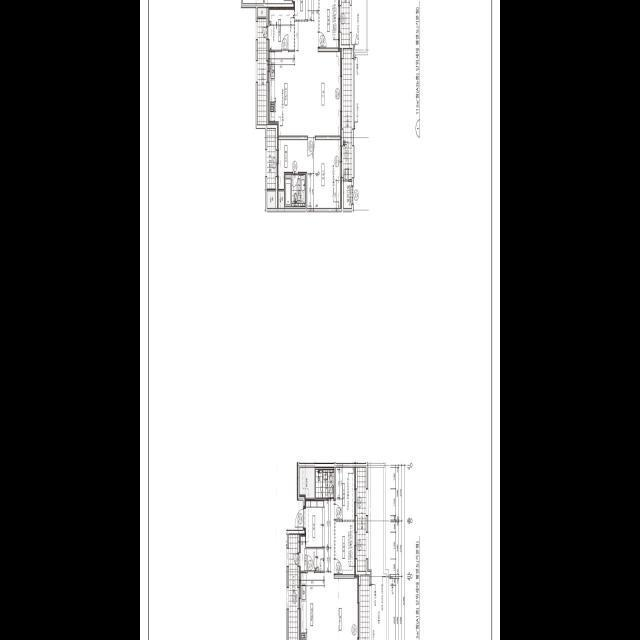background: (140, 0, 500, 640)
space_balconi: (343, 48, 352, 179), (357, 467, 366, 570), (258, 18, 266, 124), (289, 534, 297, 640), (267, 128, 276, 188), (361, 575, 369, 640), (341, 0, 350, 44)
space_bedroom: (307, 139, 342, 208), (336, 521, 356, 574), (336, 467, 356, 519), (320, 0, 340, 47)
space_dressroom: (277, 139, 307, 188)
space_front: (304, 500, 325, 546), (293, 0, 308, 19)
space_kitchen: (268, 51, 307, 135), (299, 572, 325, 640)
space_living_room: (295, 0, 342, 135), (324, 500, 359, 640)
space_multipurpose_space: (268, 6, 294, 49), (299, 534, 324, 570)
space_other: (300, 467, 315, 497), (267, 191, 276, 207), (277, 190, 284, 207), (258, 7, 266, 16)
space_outdoor_room: (343, 181, 352, 207)
space_toilet: (315, 467, 334, 498)
